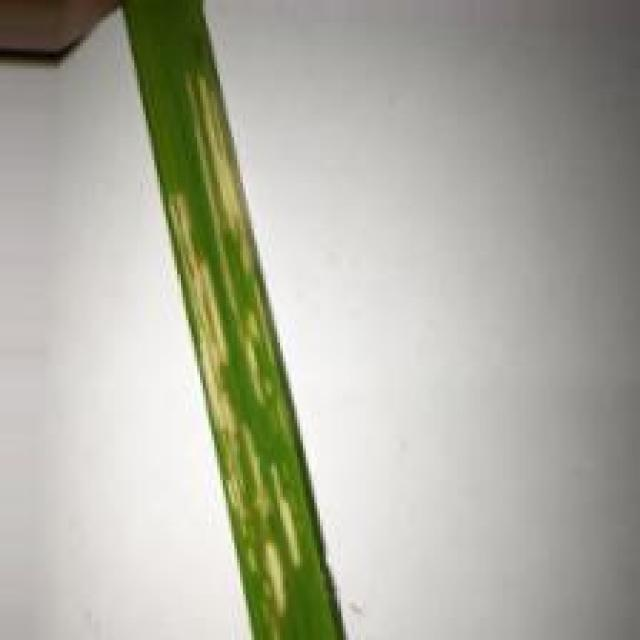Rice_Hispa: (165, 190, 252, 528), (187, 71, 254, 319), (268, 460, 306, 570), (265, 544, 288, 626)
